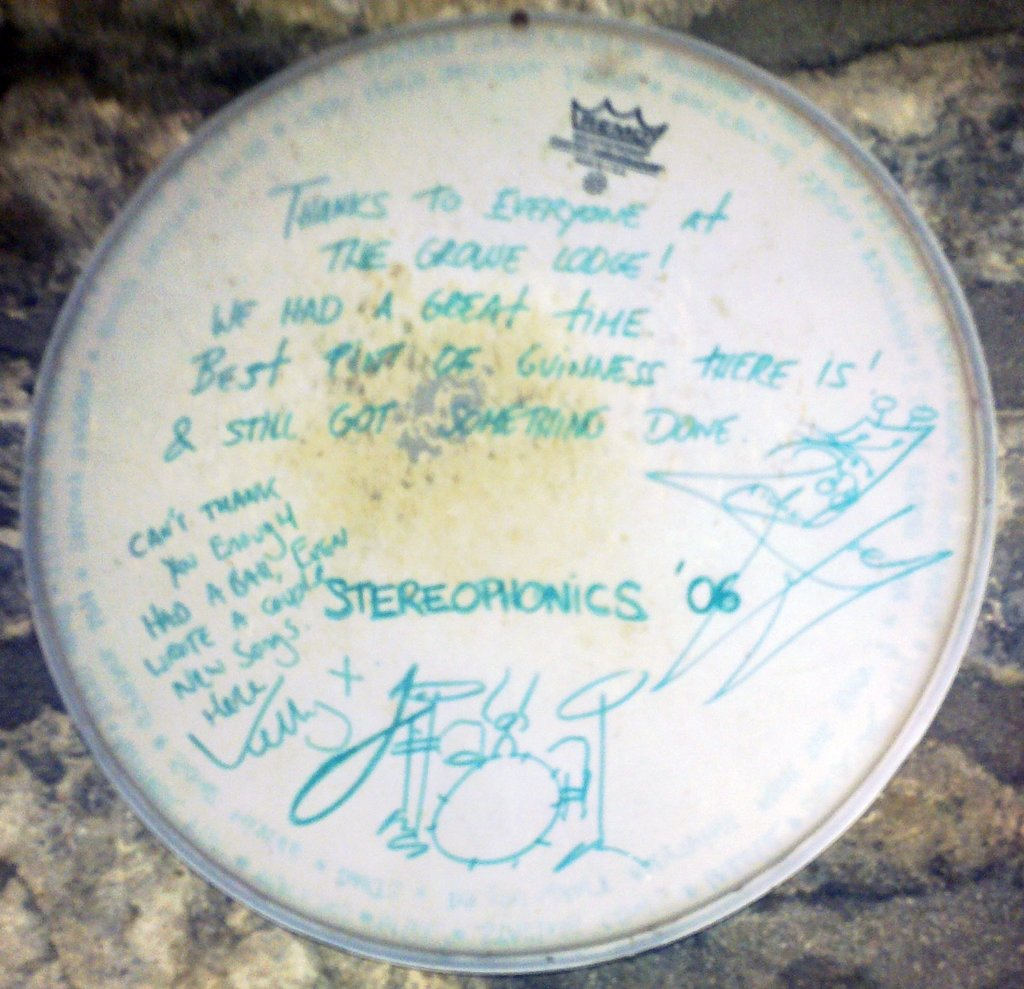plate: (46, 0, 983, 839)
